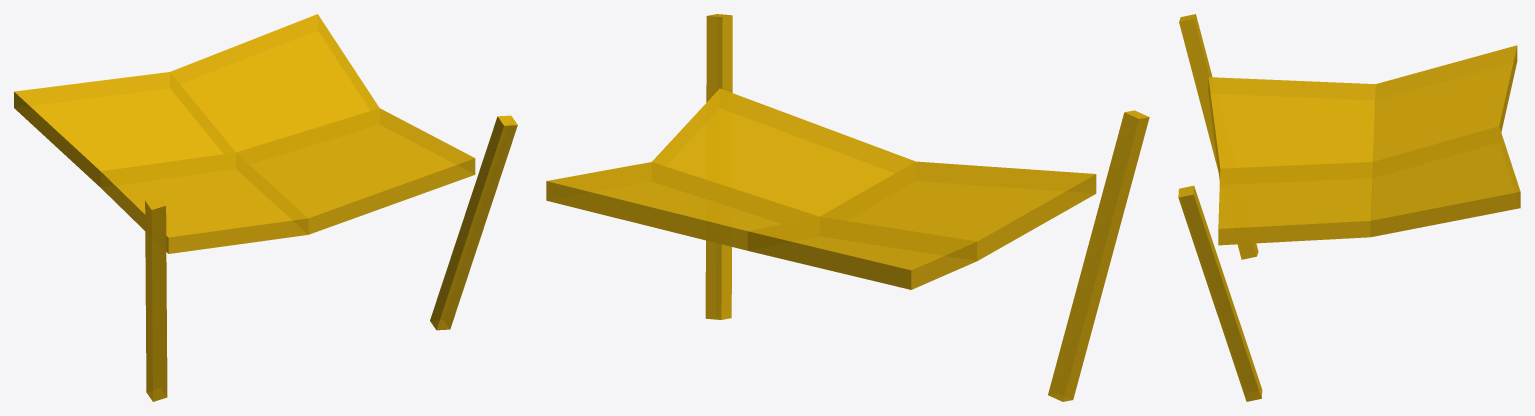
File: SM_Bld_Awning_01_Collision.fbx
3 views of the same model, side by side, from view 1: azimuth 30°, elevation 25°; view 2: azimuth 150°, elevation 25°; view 3: azimuth 270°, elevation 25° (orthographic). The views are drawn at different scales.
Visible parts, largest first — view 1: SM_Bld_Awning_01_Collision; view 2: SM_Bld_Awning_01_Collision; view 3: SM_Bld_Awning_01_Collision.
Part boxes in pixels (left/top/right/bottom): SM_Bld_Awning_01_Collision: left=14, top=14, right=517, bottom=401; SM_Bld_Awning_01_Collision: left=546, top=14, right=1149, bottom=401; SM_Bld_Awning_01_Collision: left=1178, top=14, right=1520, bottom=401.
Bounding box in the file's own units: 515 × 309 × 418.
